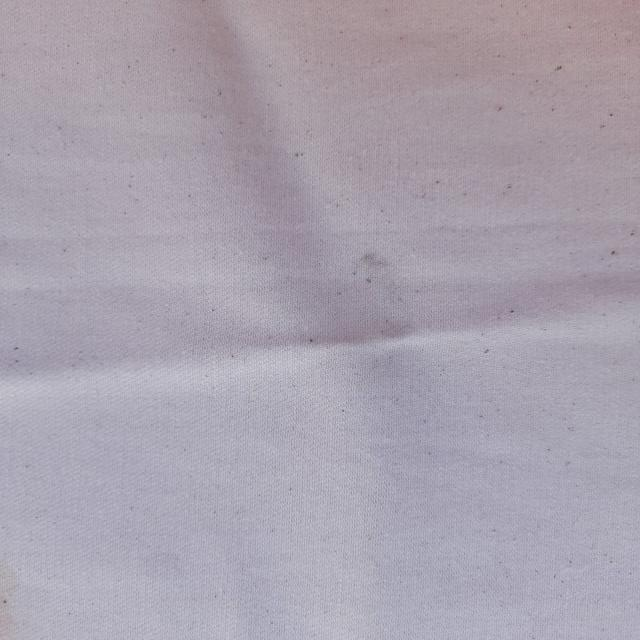taaaches: (346, 245, 402, 289)
